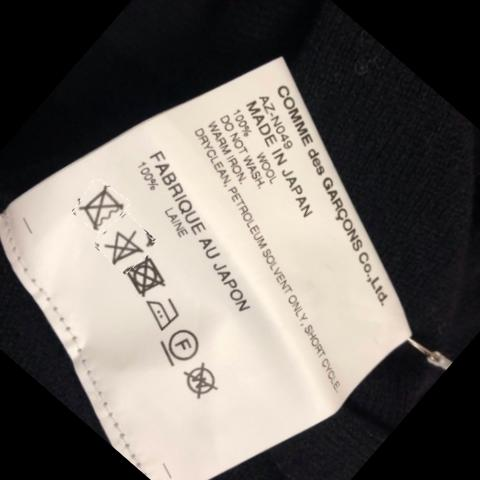DN_bleach: (107, 228, 145, 264)
DN_tumble_dry: (124, 256, 168, 295)
DN_wash: (82, 188, 126, 229)
DN_wet_clean: (180, 364, 219, 401)
dry_clean_petrol_only: (162, 327, 203, 367)
iron_medium: (145, 296, 185, 331)
